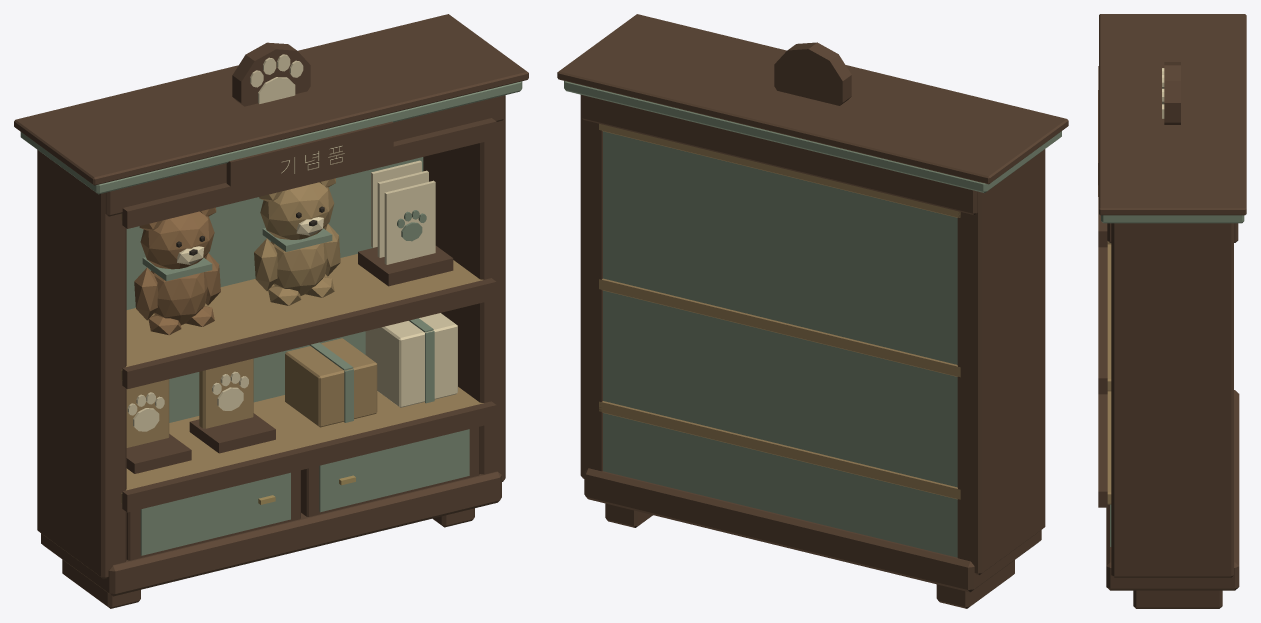
The model's file is Museum_Paw_Stand.fbx.
3 views of the same model, side by side, from view 1: azimuth 30°, elevation 25°; view 2: azimuth 150°, elevation 25°; view 3: azimuth 270°, elevation 25° (orthographic). The views are drawn at different scales.
Visible parts, largest first — view 1: Cabinet, Goods; view 2: Cabinet; view 3: Cabinet.
Part boxes in pixels (x1=…): Cabinet: x1=14, y1=14, x2=528, y2=608; Goods: x1=126, y1=160, x2=457, y2=473; Cabinet: x1=557, y1=14, x2=1068, y2=608; Cabinet: x1=1098, y1=14, x2=1246, y2=608.
Size of the model in its own units: 222 by 246 by 71.7.
1 material, 1 textured.
